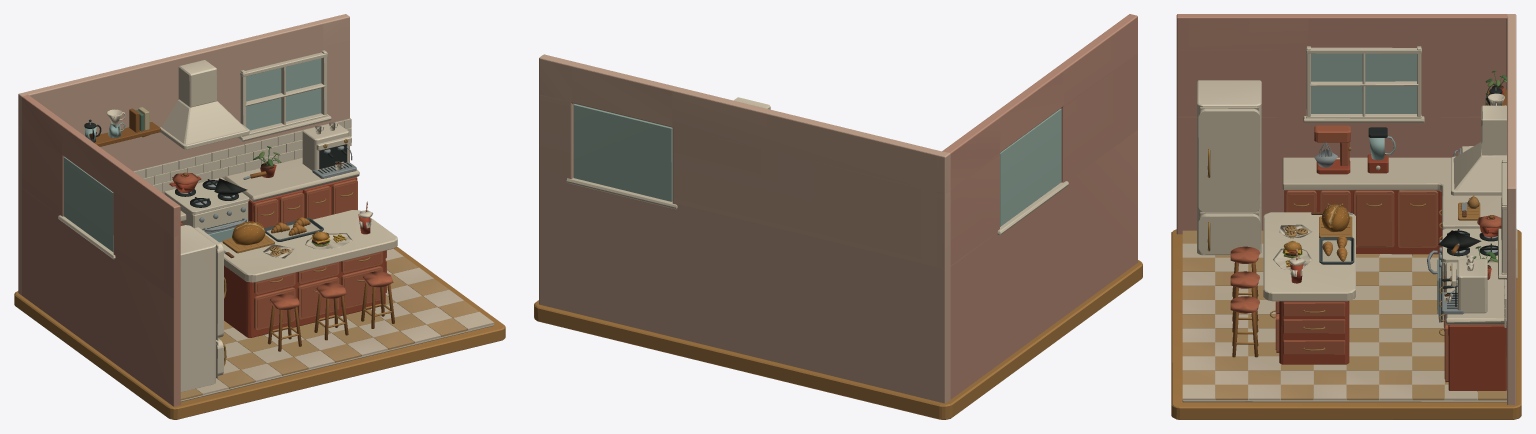
Rendered from sams-kitchen.glb.
The picture shows the model from 3 angles, left to right: view 1: azimuth 30°, elevation 25°; view 2: azimuth 150°, elevation 25°; view 3: azimuth 270°, elevation 25°; orthographic projection. The views are drawn at different scales.
Visible parts, largest first — view 1: Sam's kitchen; view 2: Sam's kitchen; view 3: Sam's kitchen.
Part boxes in pixels (box(x1,y1,x2,y2)): Sam's kitchen: box(14, 14, 505, 419); Sam's kitchen: box(534, 14, 1142, 419); Sam's kitchen: box(1171, 14, 1521, 419).
Size of the model in its own units: 7.49 by 4.49 by 6.19.
